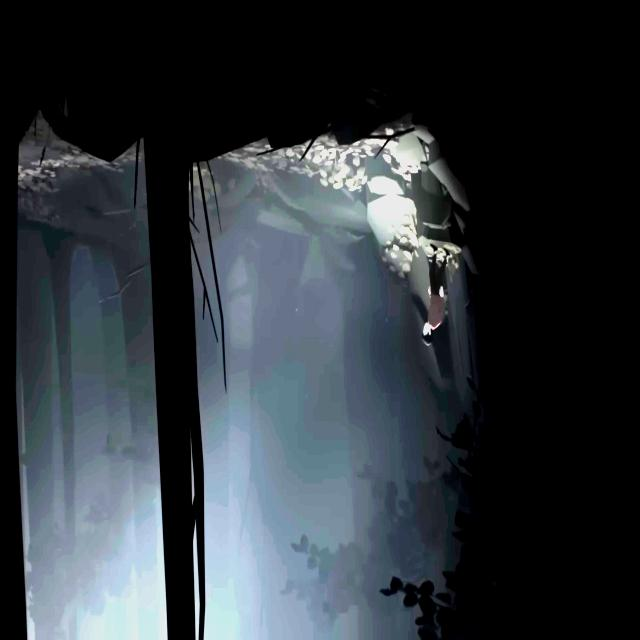boy: (422, 243, 450, 346)
